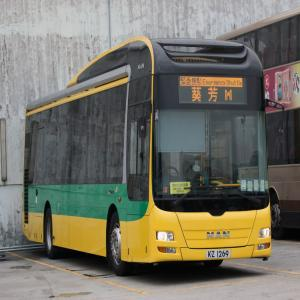Vehicle-registration-plate: (207, 249, 233, 260)
